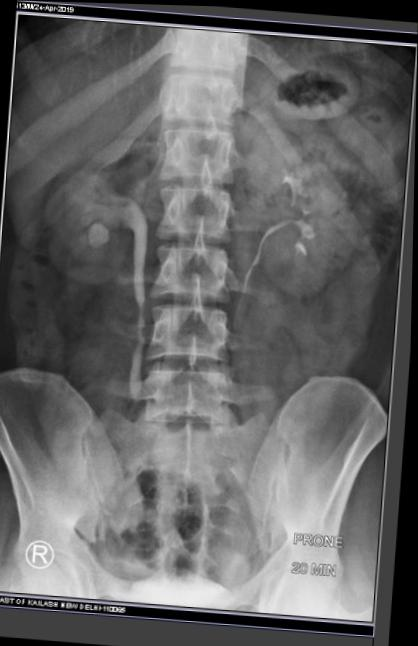vertebrae: (153, 122, 241, 185)
